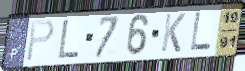6: (126, 13, 151, 57)
7: (94, 14, 122, 59)
K: (159, 12, 187, 54)
L: (57, 18, 82, 60), (189, 11, 213, 53)
P: (25, 18, 56, 63)
